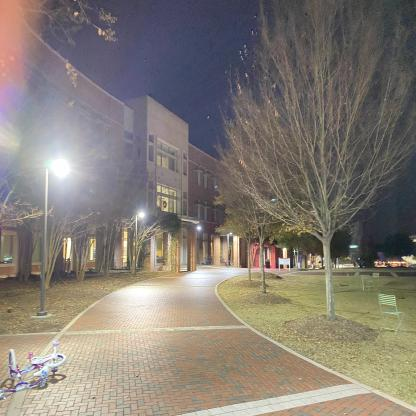eb2: (2, 24, 301, 277)
